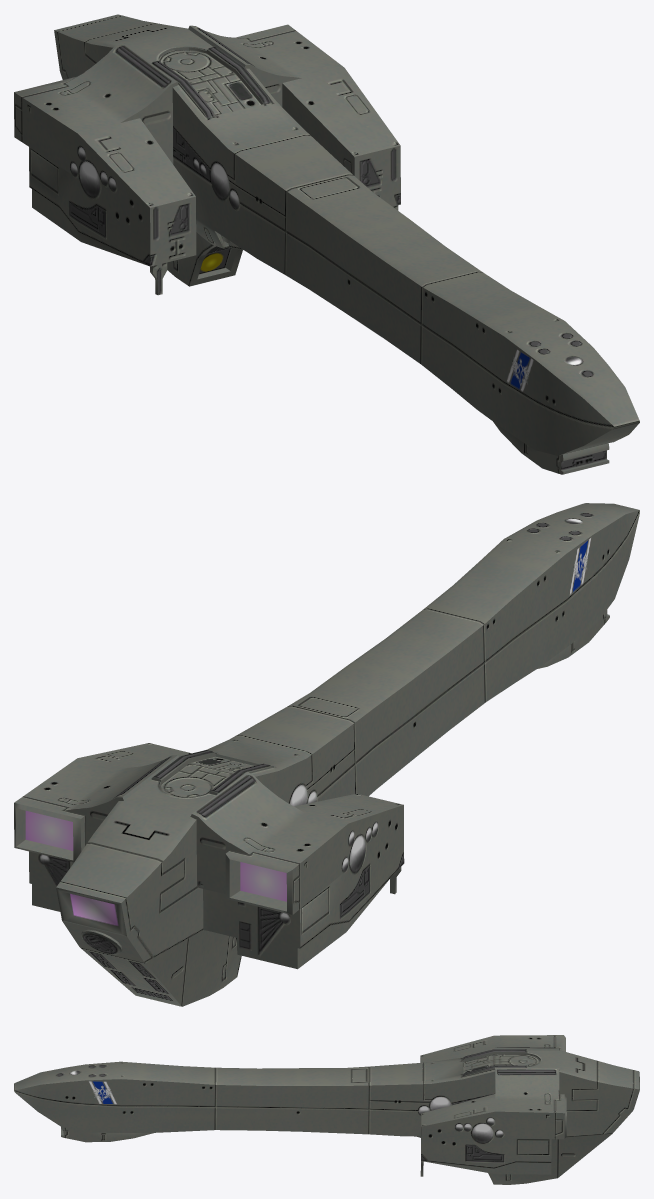
File: GE_CommandShip_Tristan.obj
3 views of the same model, one above another, from view 1: azimuth 30°, elevation 25°; view 2: azimuth 150°, elevation 25°; view 3: azimuth 270°, elevation 25° (orthographic). The views are drawn at different scales.
Parts seen in each view (by area): view 1: GE_CommandShip_Tristan; view 2: GE_CommandShip_Tristan; view 3: GE_CommandShip_Tristan.
Boxes of the visible parts, x1=… form: GE_CommandShip_Tristan: x1=14, y1=14, x2=639, y2=474; GE_CommandShip_Tristan: x1=14, y1=503, x2=639, y2=1006; GE_CommandShip_Tristan: x1=14, y1=1035, x2=639, y2=1184.
Size of the model in its own units: 231 by 167 by 783.
